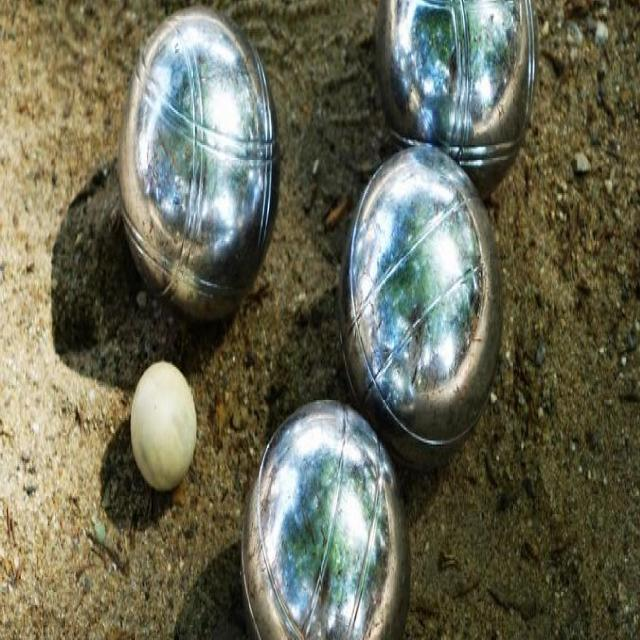hatball: (123, 354, 203, 515)
petanque: (334, 135, 514, 481), (117, 0, 287, 333), (234, 393, 417, 639), (368, 0, 548, 207)
